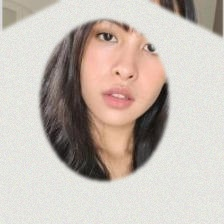Mukena: (0, 28, 217, 224)
